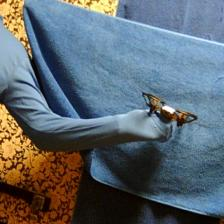drone: (140, 88, 198, 130)
